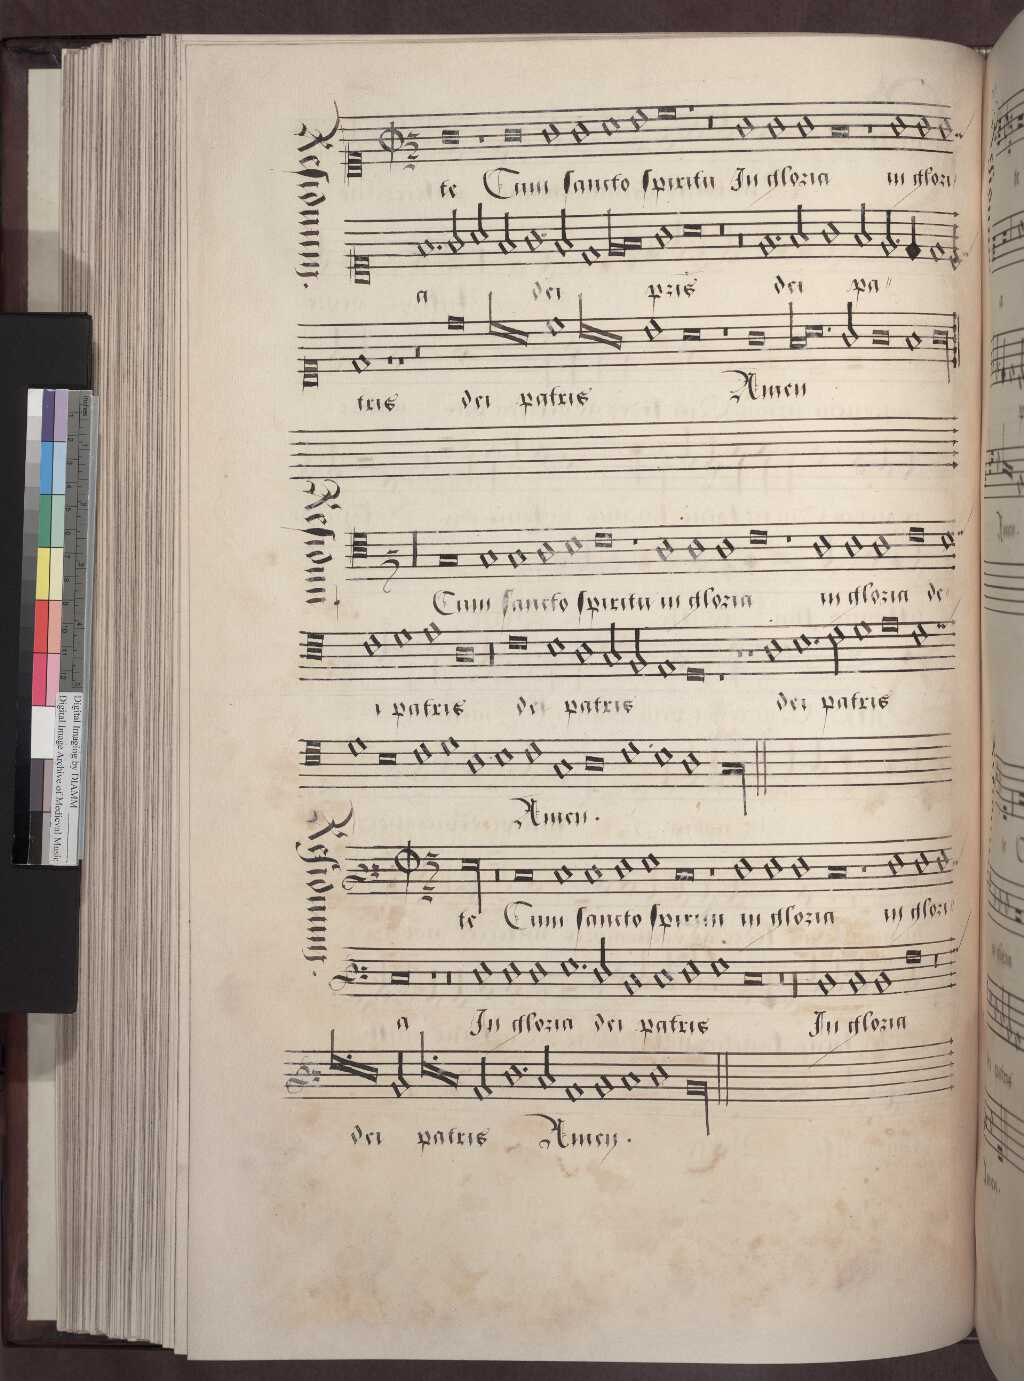breve rest: (713, 200, 730, 266), (731, 203, 748, 269)
breve_6: (675, 213, 707, 247)
c clef_11: (345, 237, 378, 299)
custos_10: (961, 234, 978, 269)
l1semibreve_9: (603, 203, 621, 264)
l2semibreve_8: (621, 231, 644, 256)
minim_11: (947, 218, 964, 277)
minim_6: (468, 195, 489, 251)
minim_7: (444, 202, 465, 264)
minim_8: (786, 193, 811, 257), (552, 198, 575, 264), (852, 193, 874, 255), (496, 204, 512, 261)
minim_9: (877, 200, 896, 262)
point: (534, 222, 551, 244), (769, 226, 785, 248), (890, 228, 904, 250), (428, 241, 445, 258)
semibreve_10: (579, 236, 602, 275), (925, 241, 950, 266)
semibreve_7: (817, 211, 844, 256), (520, 216, 545, 261), (651, 214, 675, 257)
semibreve_8: (406, 234, 437, 266)
semibreve_9: (757, 220, 781, 268)
semiminim_10: (905, 207, 924, 269)
